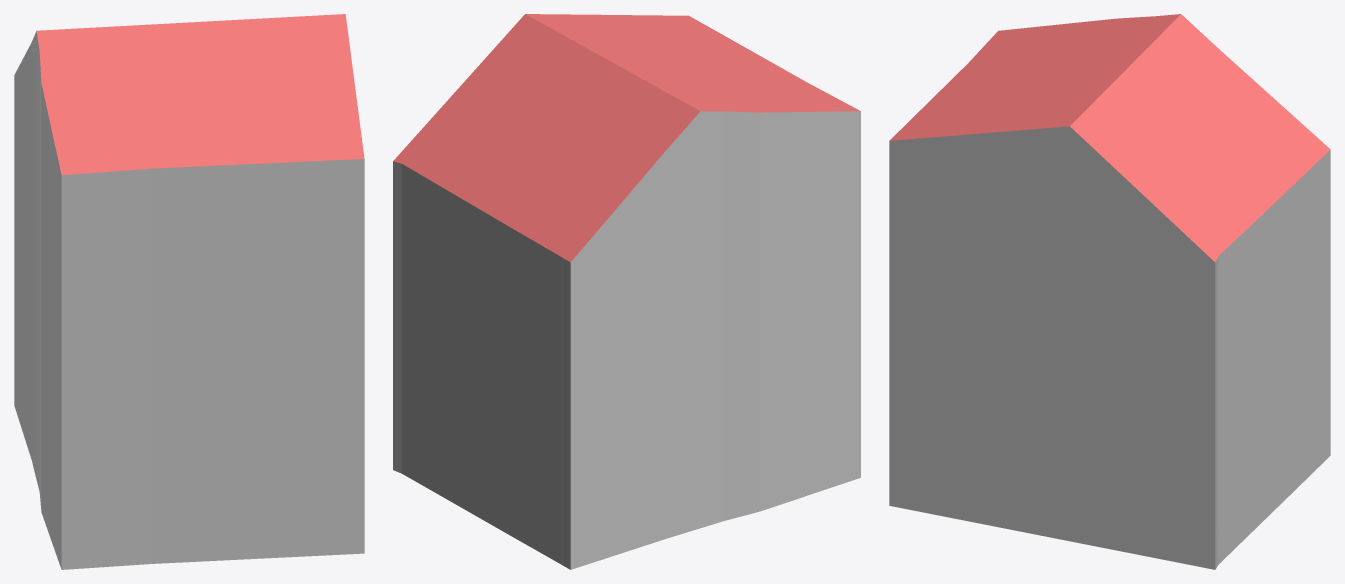
File: DEBY_LOD2_4907193.gltf
3 renders of one model, left to right at view 1: azimuth 30°, elevation 25°; view 2: azimuth 150°, elevation 25°; view 3: azimuth 270°, elevation 25°, orthographic. The views are drawn at different scales.
Visible parts, largest first — view 1: Z_UP; view 2: Z_UP; view 3: Z_UP.
Boxes of the visible parts, x1,y1,x2,y2 form: Z_UP: (14, 14, 364, 569); Z_UP: (393, 14, 860, 569); Z_UP: (889, 14, 1330, 569).
Size of the model in its own units: 18.84 by 20.92 by 20.17.
